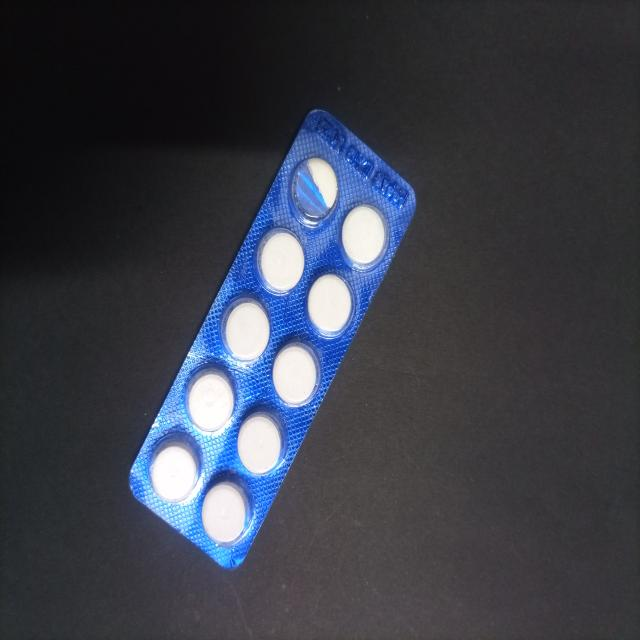defect: (286, 154, 342, 229)
